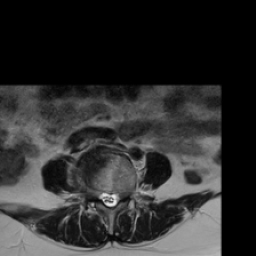CCS_normal: (107, 184, 113, 214)
LFS_normal: (120, 183, 128, 206)
LLS_normal: (113, 184, 120, 211)
RFS_normal: (93, 181, 100, 203)
RLS_normal: (100, 183, 107, 210)
